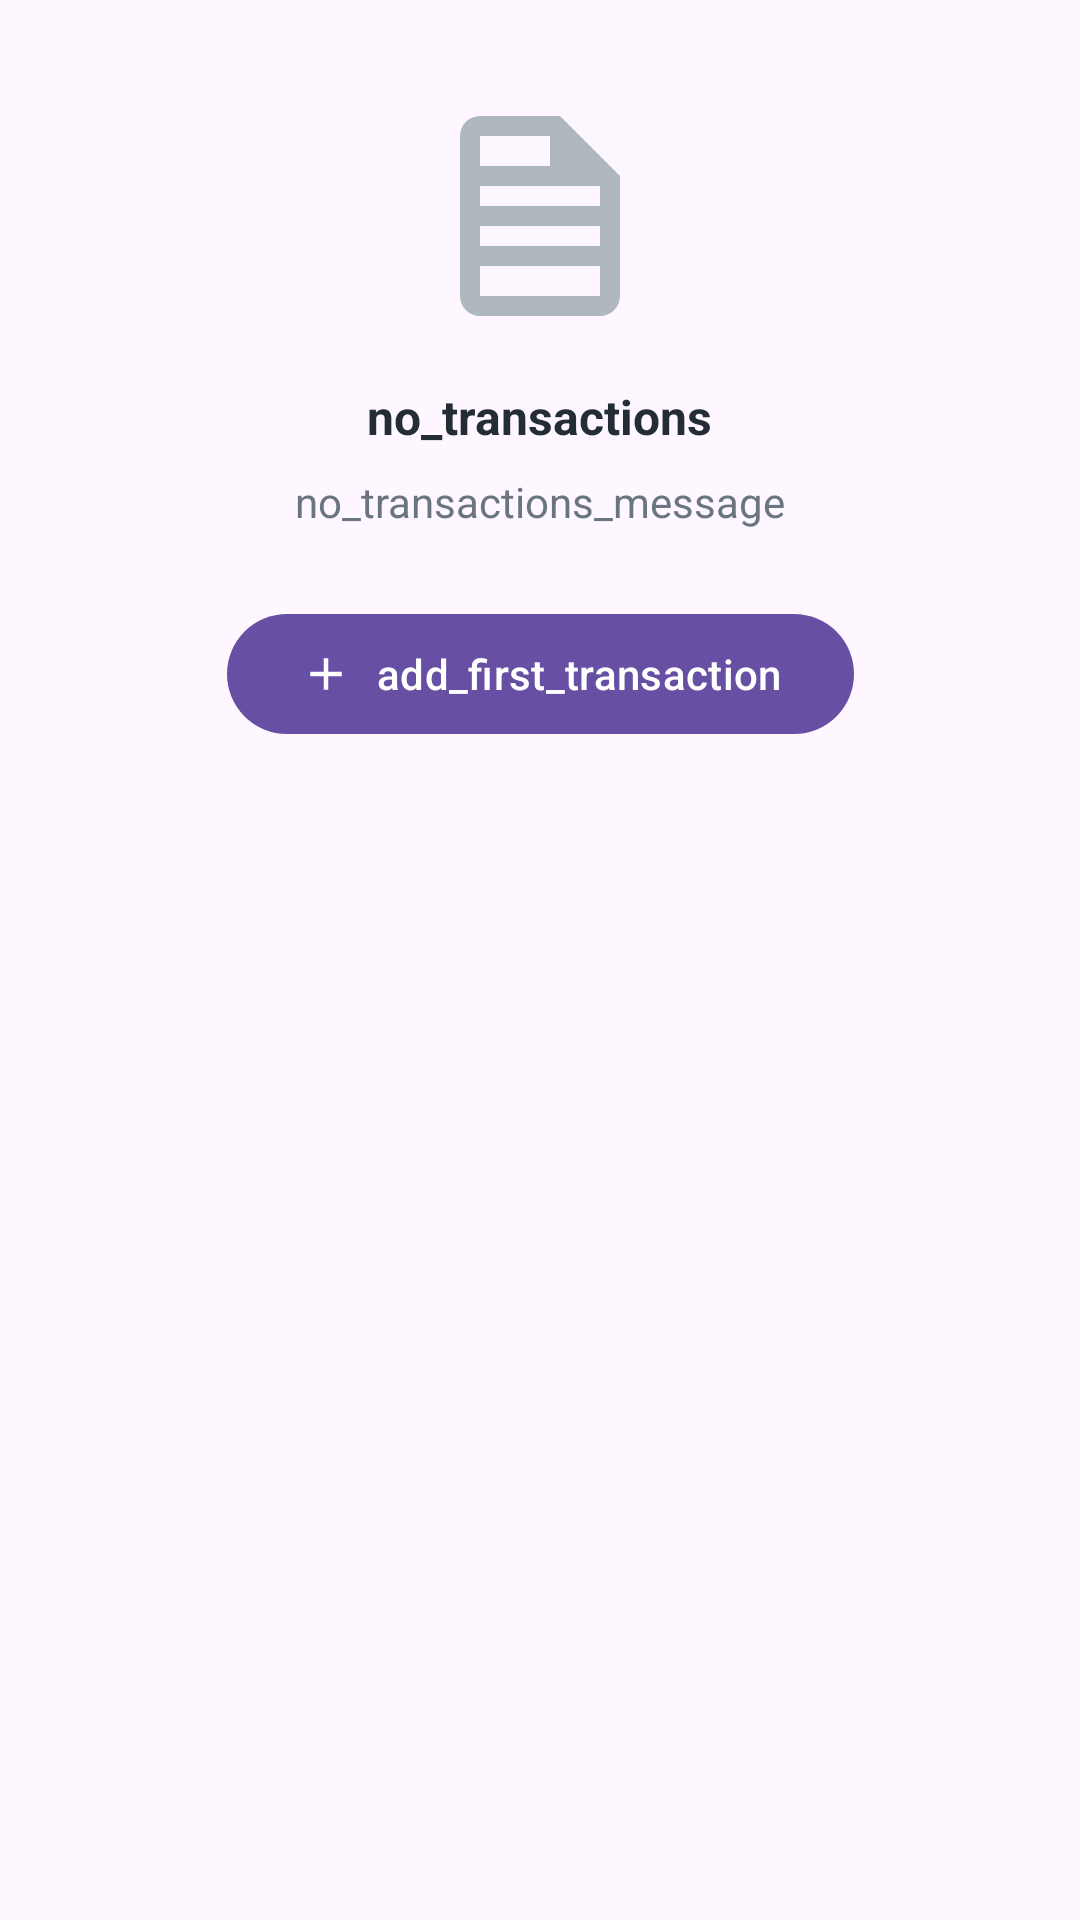

Screen size 1080×1920. Icon name, then its center in pixels as (x=x, y=y):
receipt empty: (x=540, y=216)
